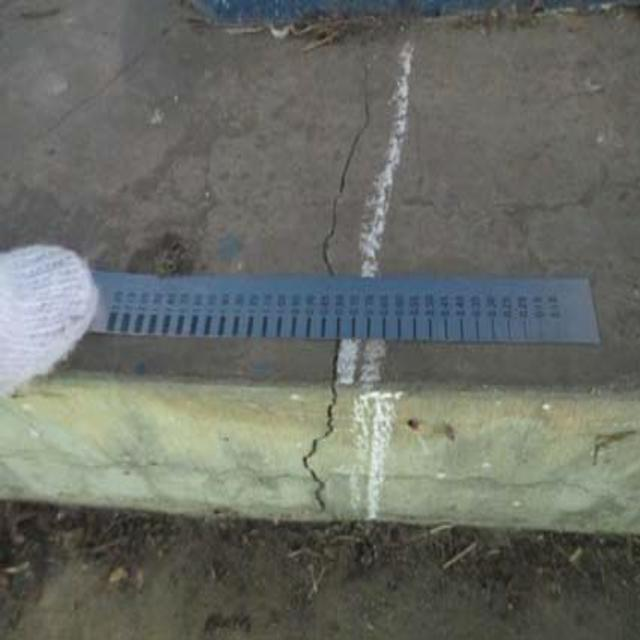crack: (314, 17, 384, 293), (282, 330, 362, 520)
